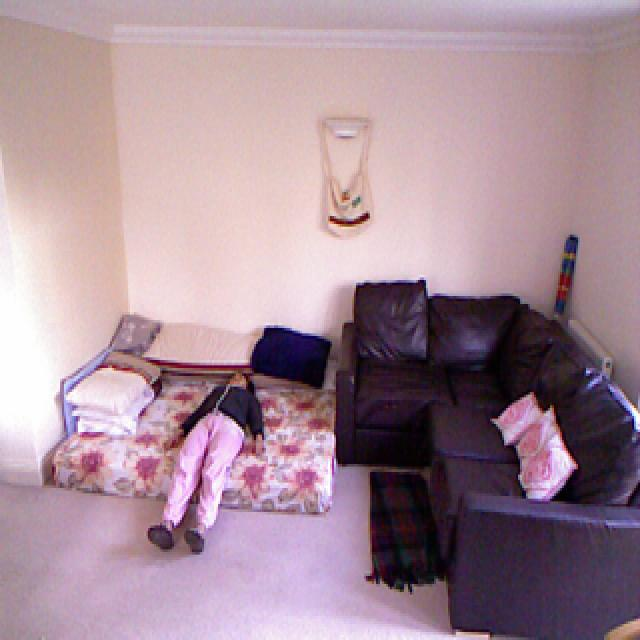lying: (146, 365, 265, 556)
